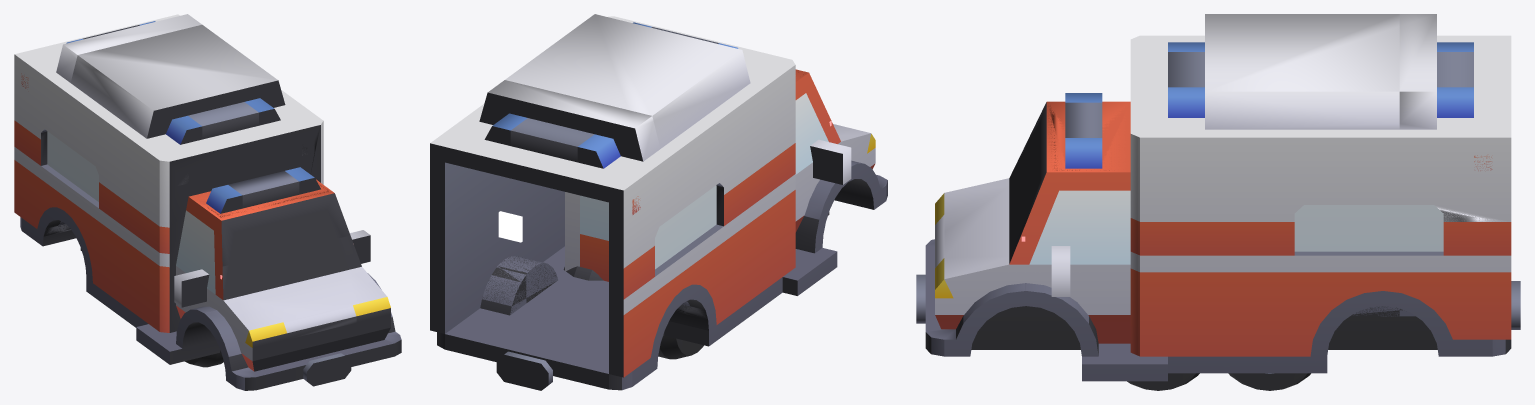
File: schoolBus.glb
3 views of the same model, side by side, from view 1: azimuth 30°, elevation 25°; view 2: azimuth 150°, elevation 25°; view 3: azimuth 270°, elevation 25° (orthographic). The views are drawn at different scales.
Parts seen in each view (by area): view 1: body, trunk, hood, wheel_fr; view 2: body, hood, door_r, trunk, wheel_rr, headlight_r; view 3: body, hood, trunk, wheel_rl, wheel_fl.
Boxes of the visible parts, x1,y1,x2,y2 form: body: (58, 24, 370, 364); trunk: (204, 235, 401, 390); hood: (14, 14, 201, 250); wheel_fr: (185, 353, 223, 367); body: (482, 14, 851, 346); hood: (430, 80, 675, 390); door_r: (565, 192, 608, 281); trunk: (827, 113, 887, 215); wheel_rr: (658, 335, 703, 359); headlight_r: (498, 211, 522, 242); body: (1025, 14, 1399, 381); hood: (1399, 14, 1520, 356); trunk: (916, 146, 1025, 356); wheel_rl: (1228, 373, 1310, 390); wheel_fl: (1127, 373, 1199, 390).
Bounding box in the file's own units: 4.8 × 5.98 × 10.4.
Materials: 4 (1 with a texture image).
